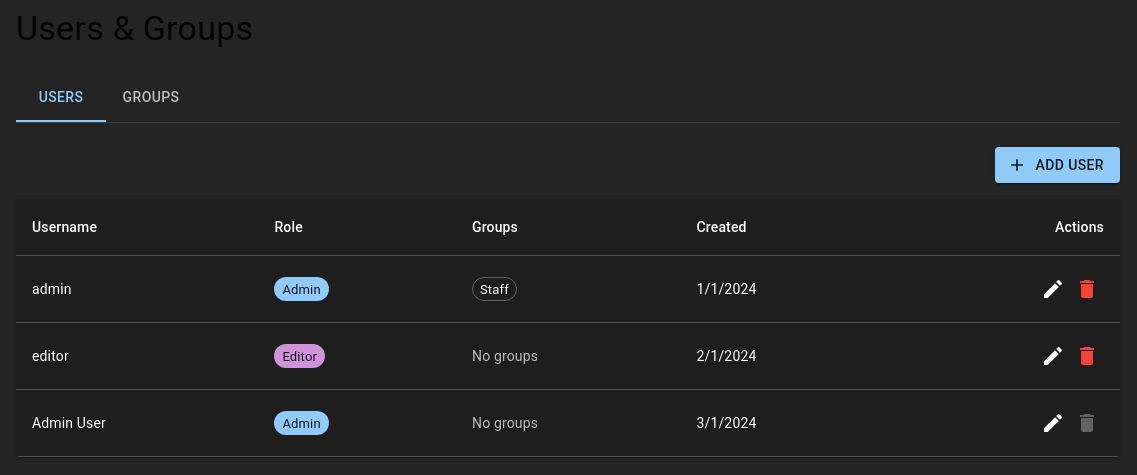
Test: UsersPage › groups tab › switches to groups tab when clicked
Click the tab "Groups".
click(151, 98)  # box [106,74,196,122]
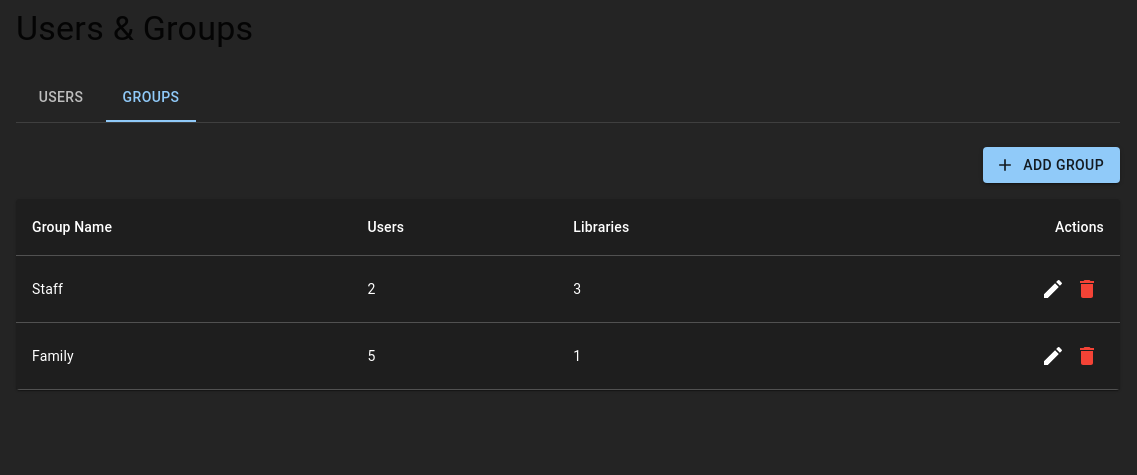
expect the button "Add Group" is shown: met, box [983,147,1120,184]
